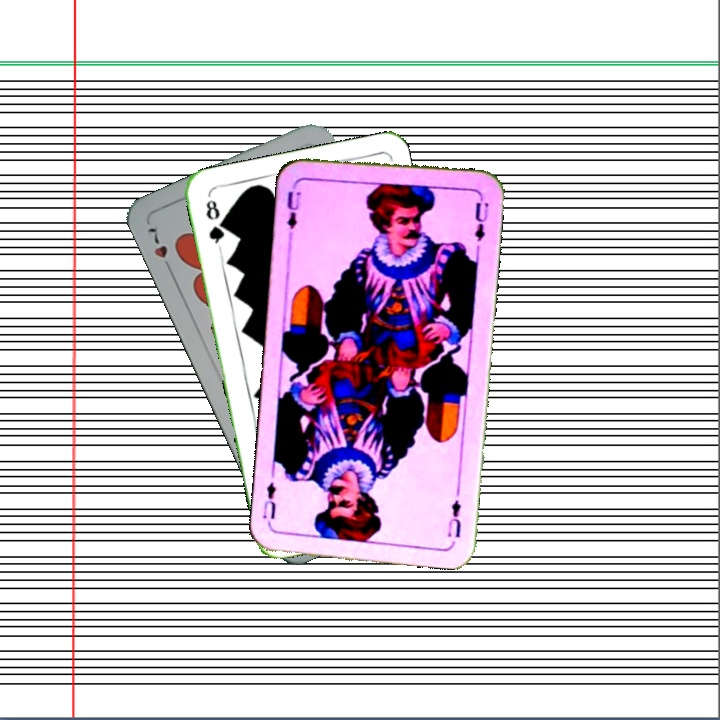EU: (282, 180, 304, 239), (443, 496, 464, 540)
G8: (202, 195, 227, 252)
H7: (142, 223, 176, 276)
